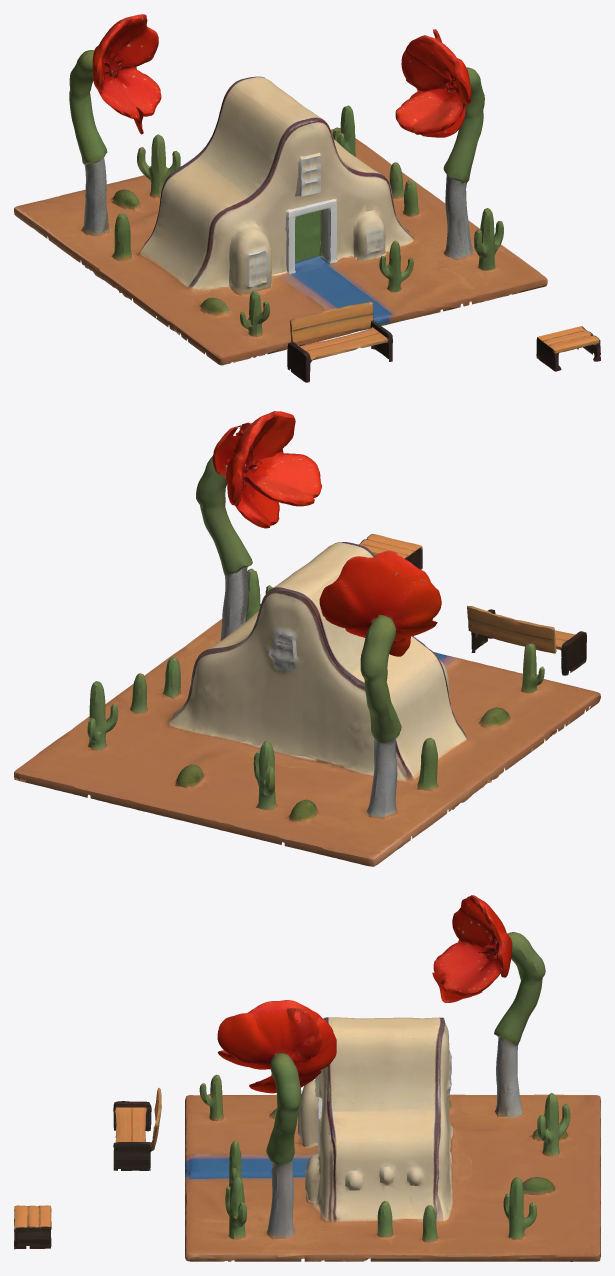
Rendered from Cowboy.glb.
3 renders of one model, top to bottom at view 1: azimuth 30°, elevation 25°; view 2: azimuth 150°, elevation 25°; view 3: azimuth 270°, elevation 25°, orthographic. The views are drawn at different scales.
Parts seen in each view (by area): view 1: Cowboy; view 2: Cowboy; view 3: Cowboy.
Boxes of the visible parts, x1,y1,x2,y2 form: Cowboy: (14, 14, 600, 382); Cowboy: (14, 411, 600, 866); Cowboy: (14, 895, 600, 1261).
Bounding box in the file's own units: 1.24 × 0.8379 × 1.91.
Materials: 1 (1 with a texture image).
